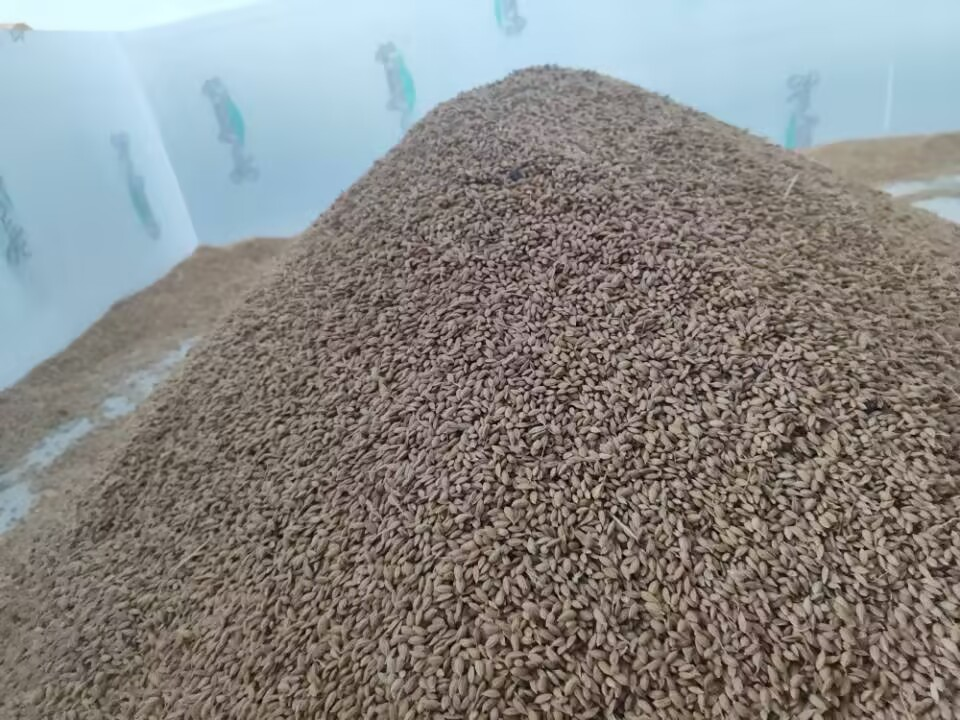Grain: (94, 55, 960, 704)
